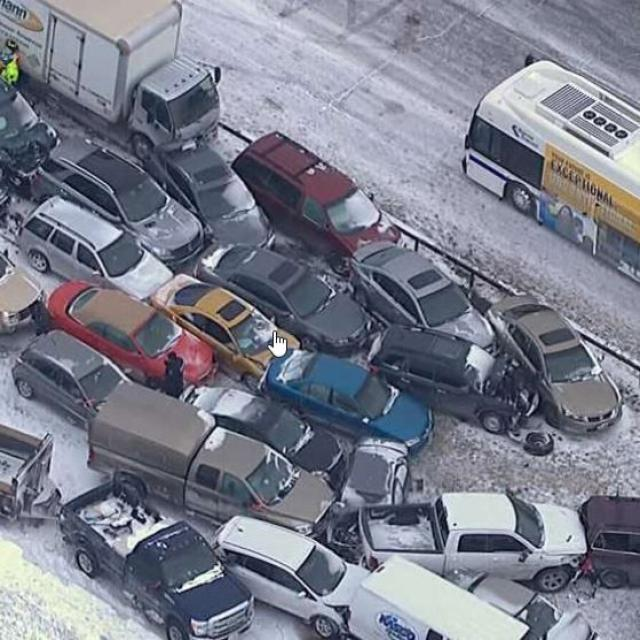traffic_incident: (0, 90, 618, 574)
